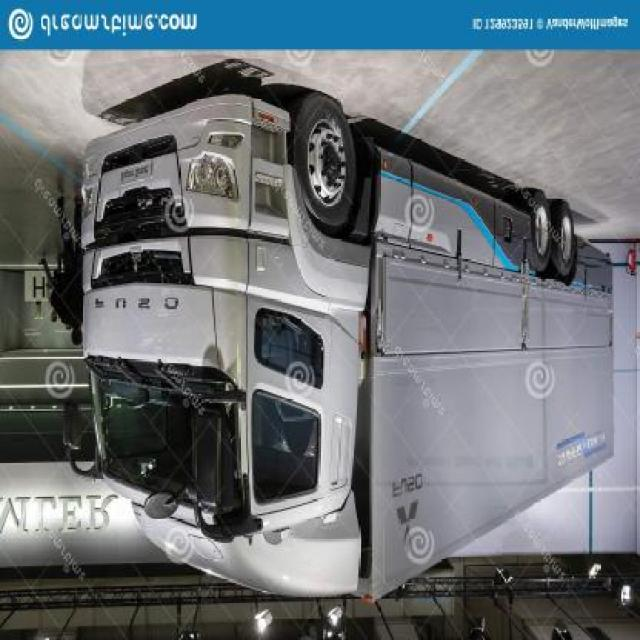truck: (62, 87, 618, 610)
